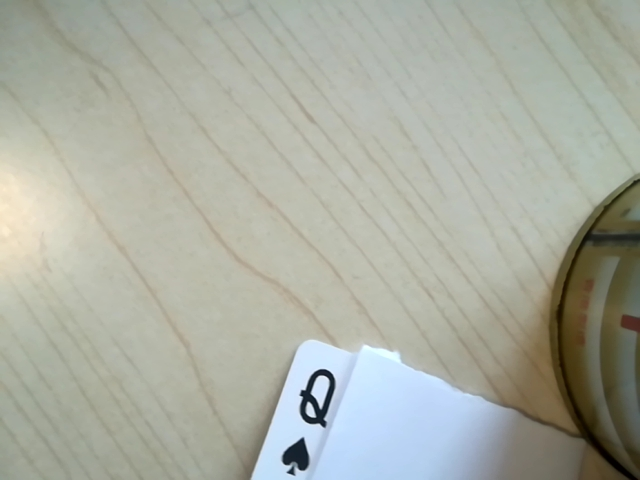ht q: (272, 361, 347, 477)
